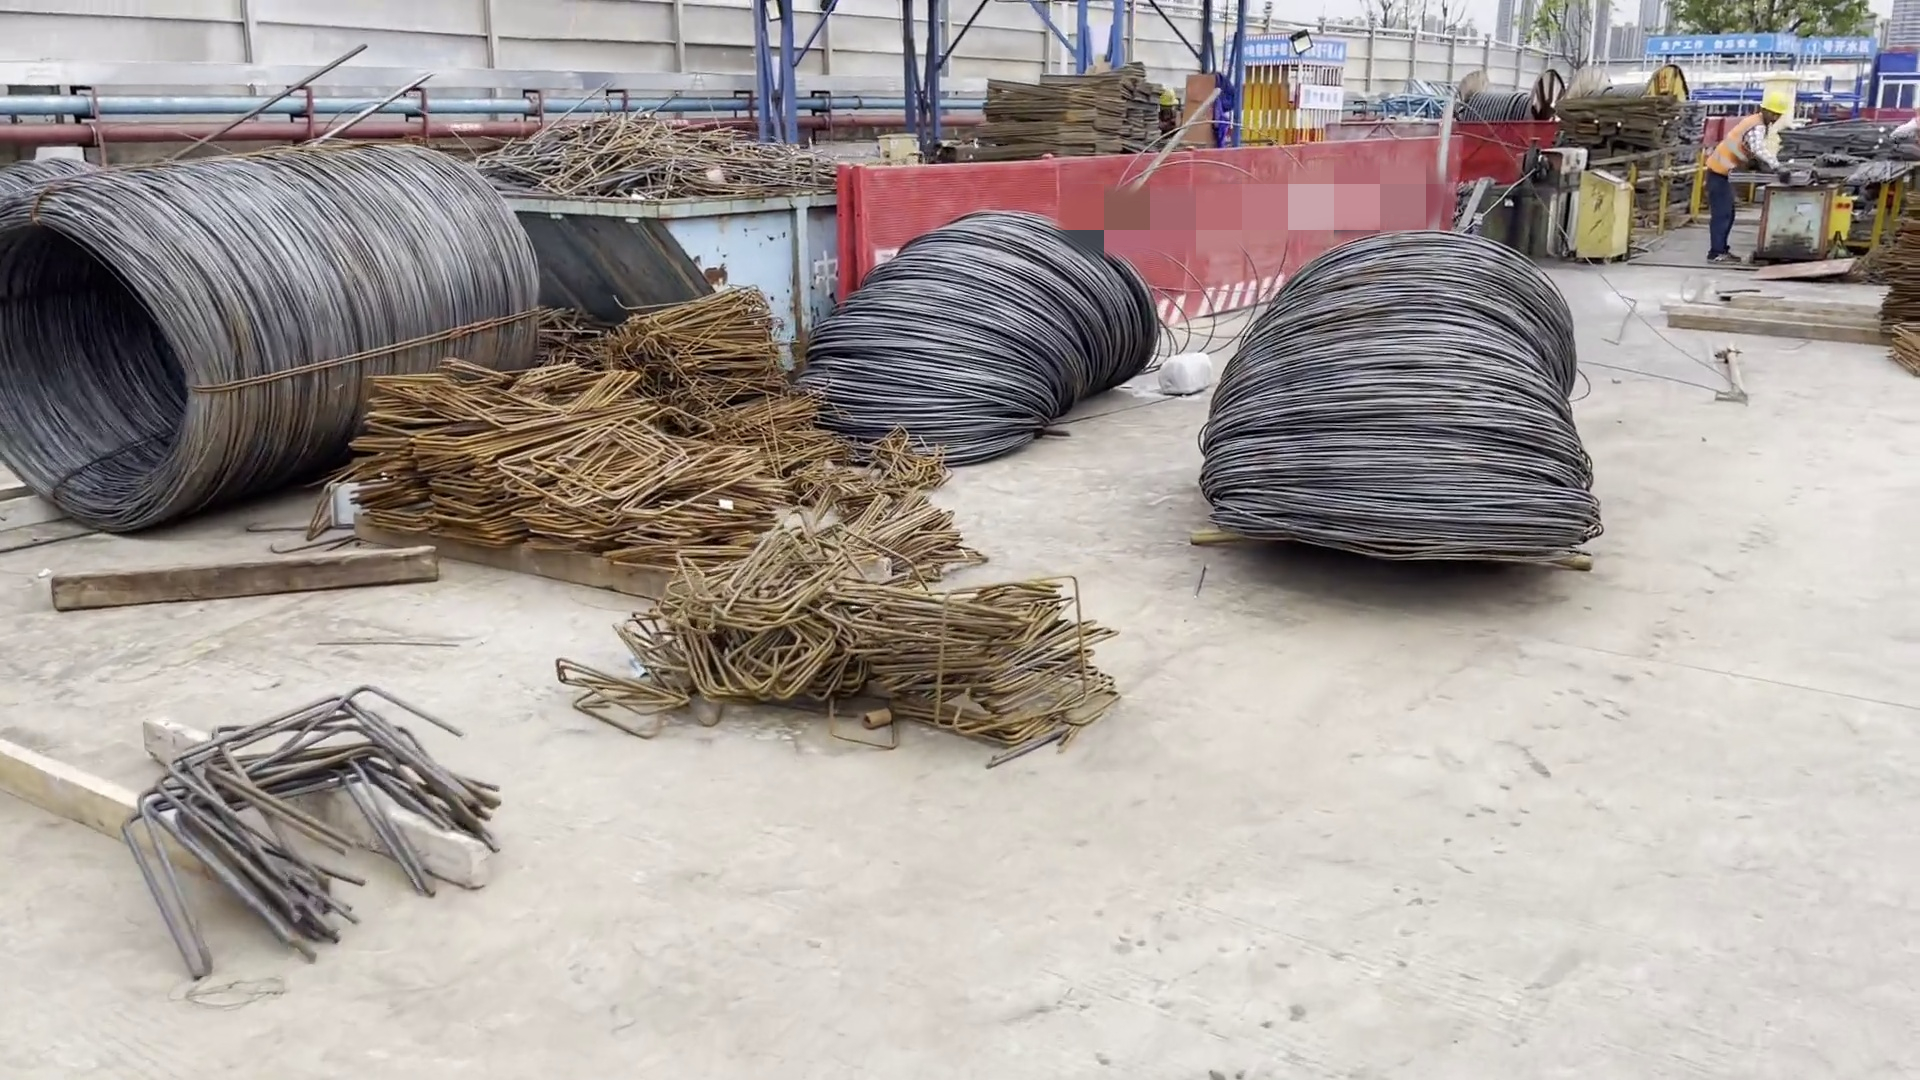cutter: (1754, 172, 1858, 269)
ebox: (1567, 159, 1644, 278), (1231, 70, 1321, 149)
fence: (831, 130, 1467, 327), (1450, 114, 1567, 201)
helmet: (1751, 88, 1806, 118)
hopper: (487, 172, 849, 341)
person: (1697, 68, 1786, 270)
slogan: (1633, 23, 1872, 73), (1225, 31, 1354, 78)
vest: (1702, 116, 1780, 192)
